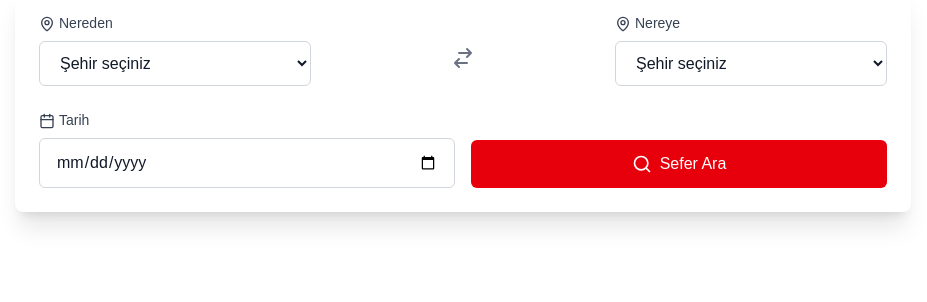
Test case: BiletAramaForm Component › shows validation errors for empty fields
Click the button "Sefer Ara": [679, 164] box left=471, top=140, right=887, bottom=188
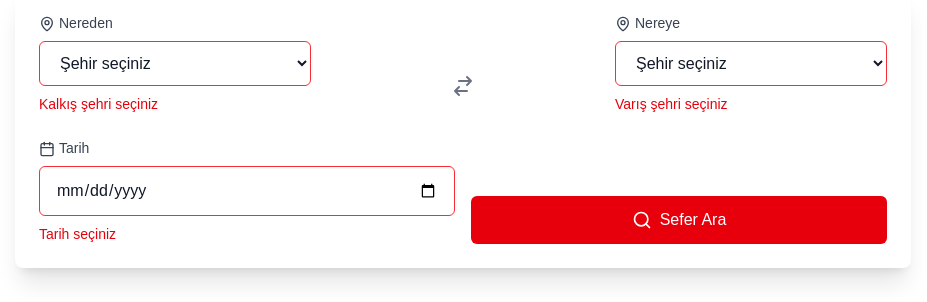
Expected: the text "Kalkış şehri seçiniz" is shown, left=39, top=96, right=158, bottom=112
Expected: the text "Varış şehri seçiniz" is shown, left=615, top=96, right=728, bottom=112
Expected: the text "Tarih seçiniz" is shown, left=39, top=226, right=116, bottom=242
